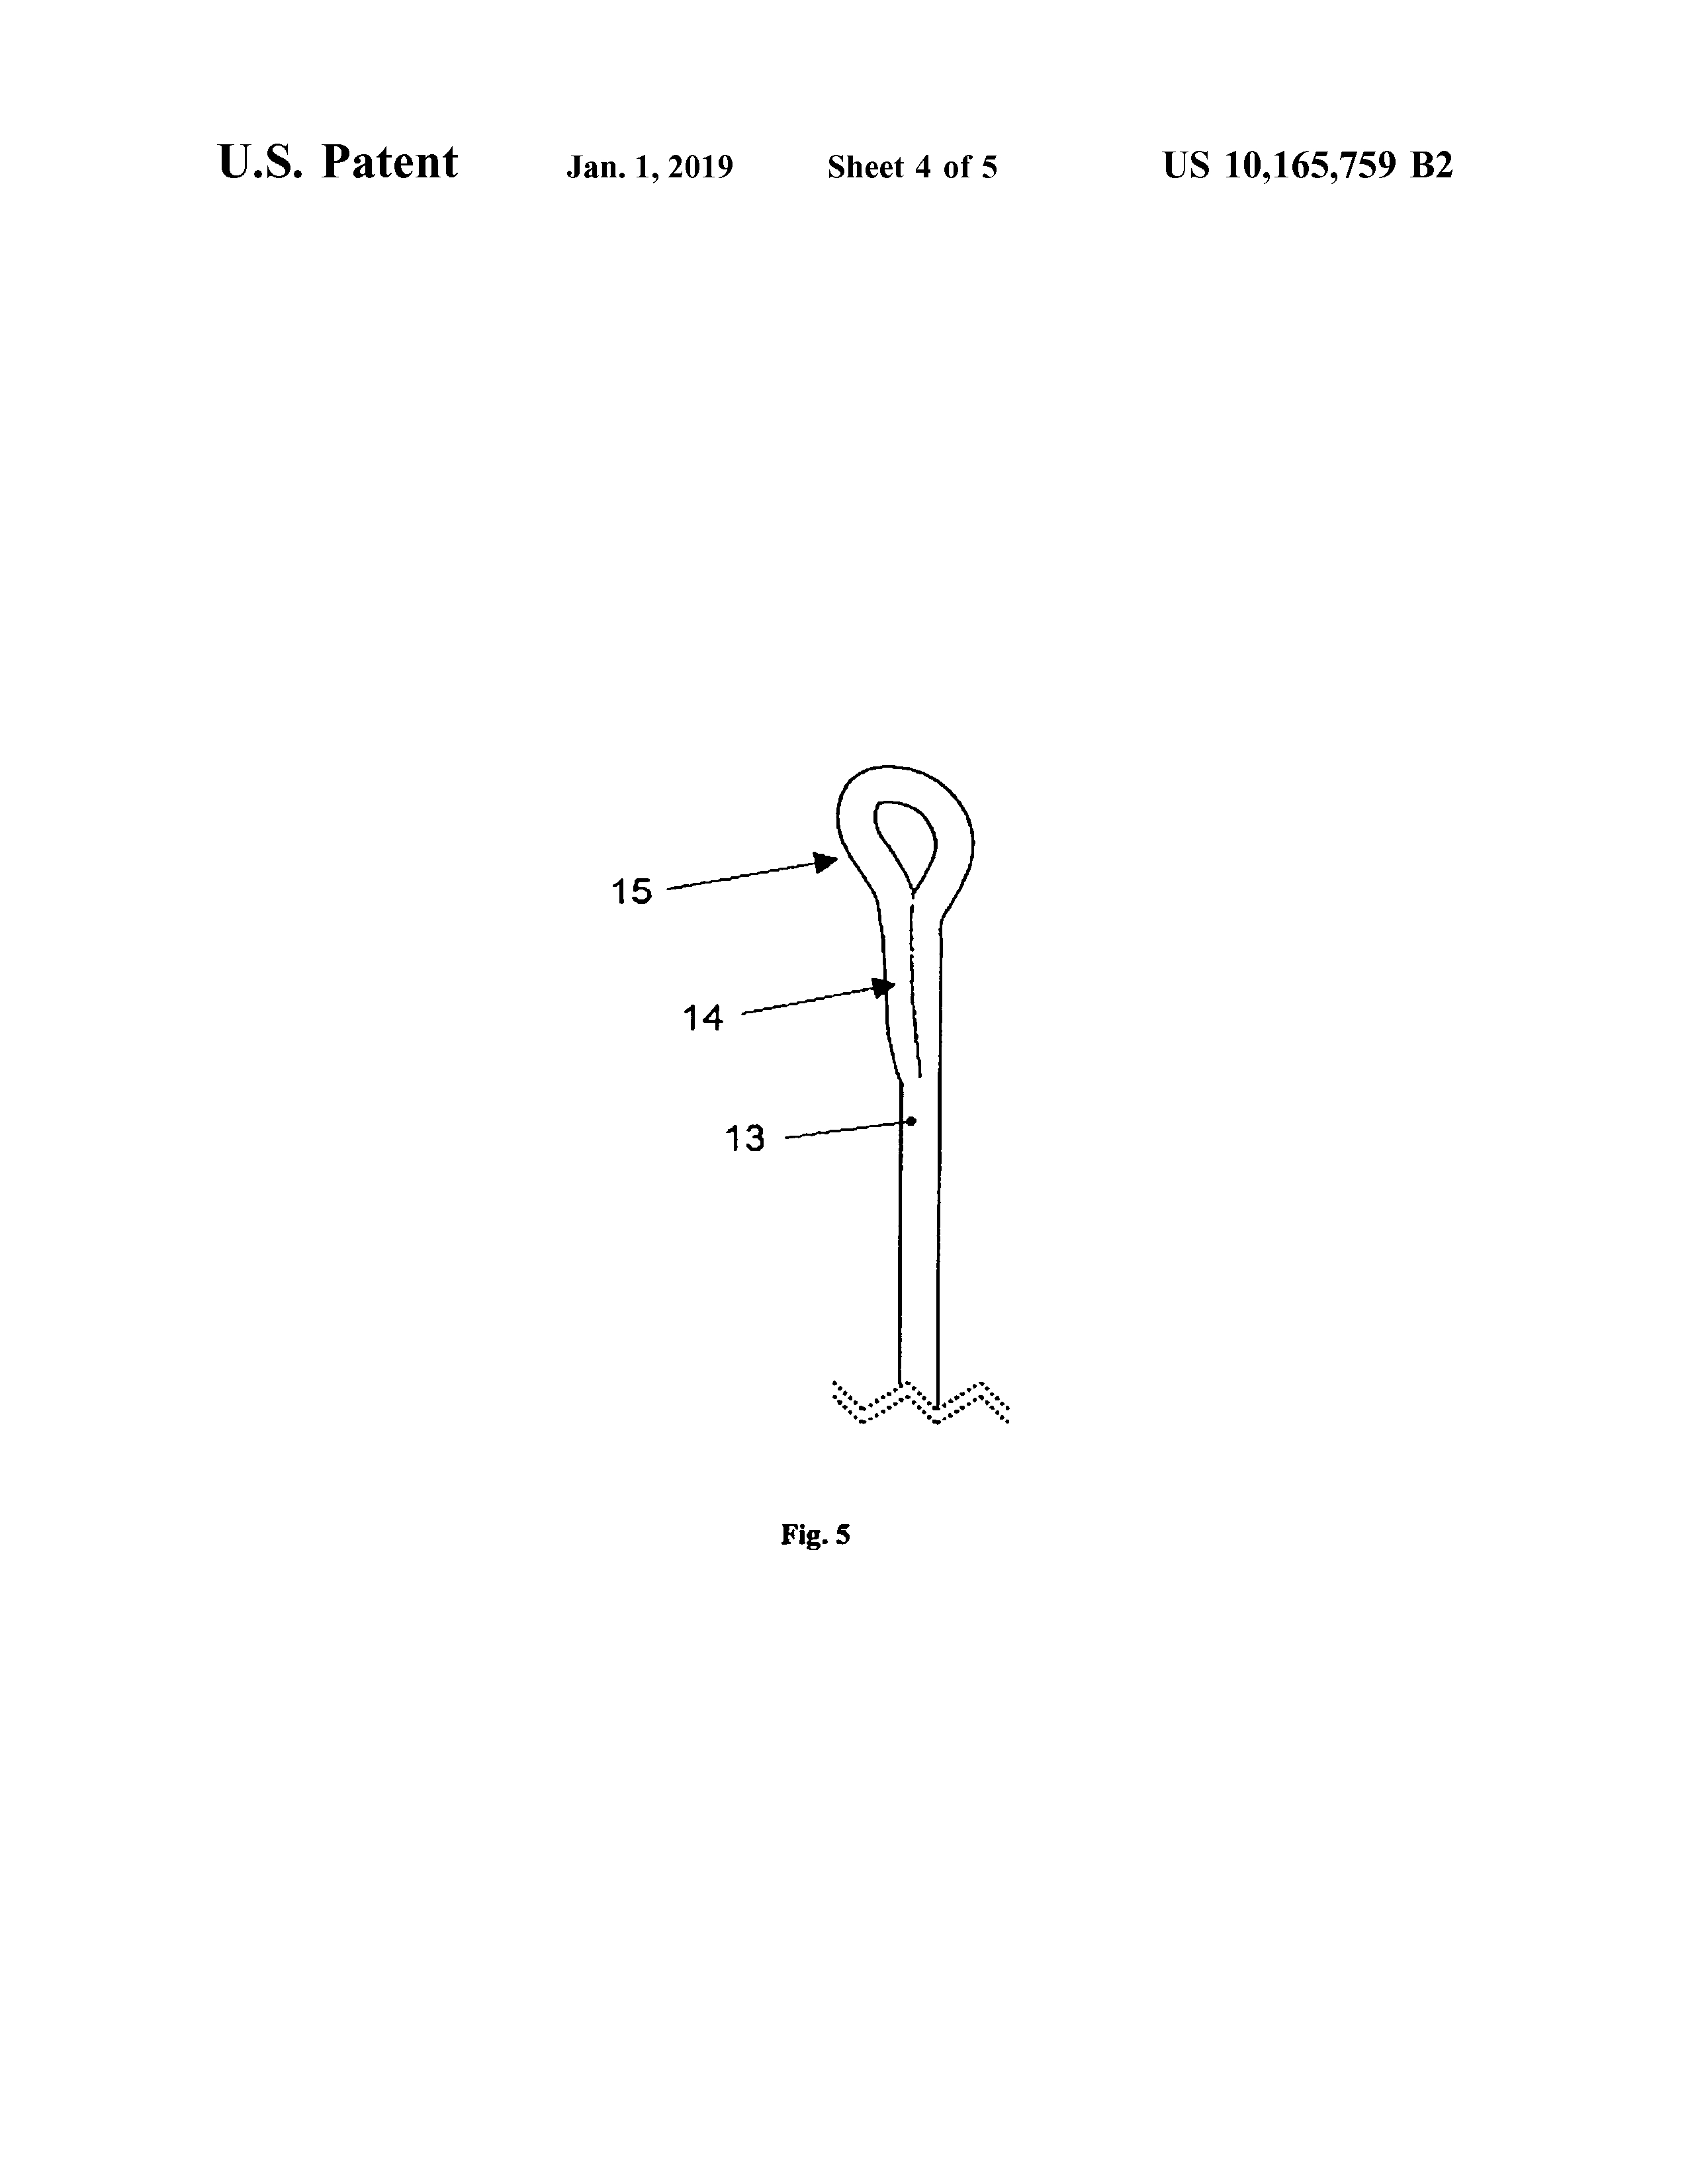patent image: (531, 695, 1151, 1662)
